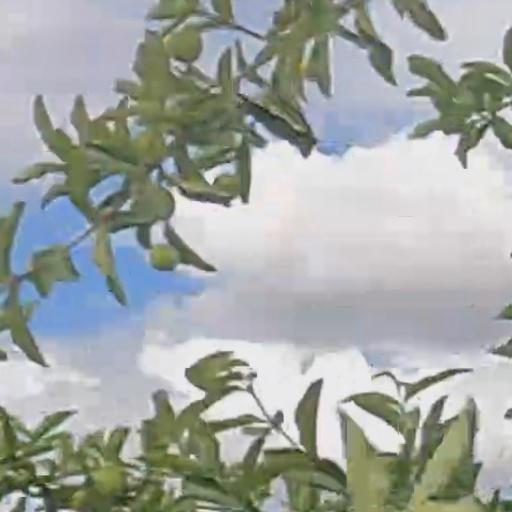acerola: (93, 467, 128, 499), (151, 246, 181, 272)
